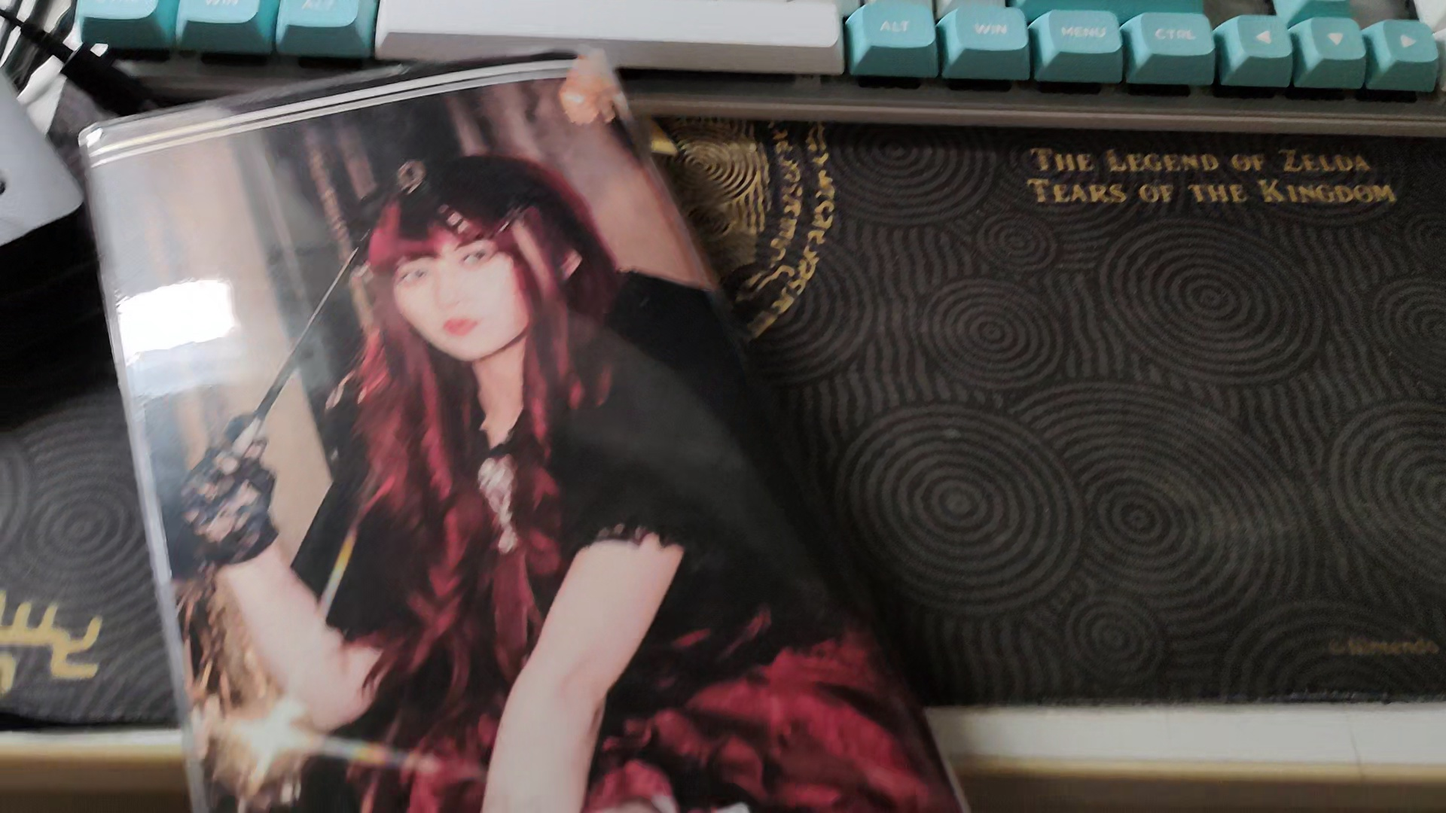Photo_book: (78, 43, 970, 812)
